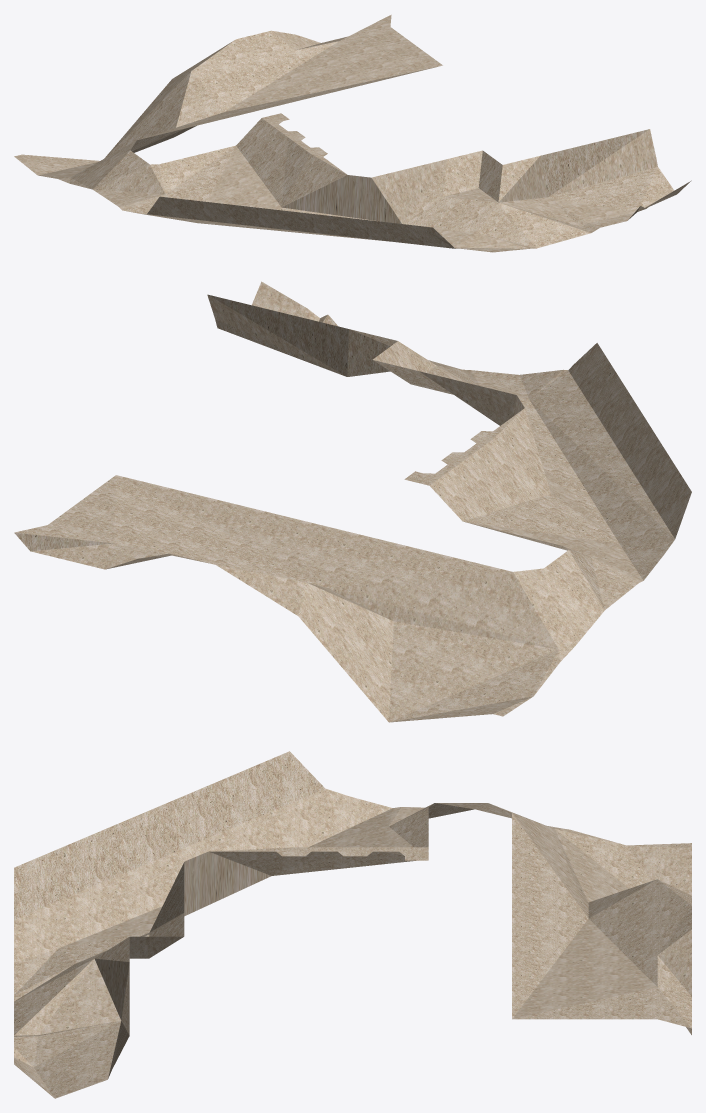
The model's file is lodseabed110.obj.
3 views of the same model, one above another, from view 1: azimuth 30°, elevation 25°; view 2: azimuth 150°, elevation 25°; view 3: azimuth 270°, elevation 25° (orthographic). The views are drawn at different scales.
Parts seen in each view (by area): view 1: lodseabed110; view 2: lodseabed110; view 3: lodseabed110.
Part boxes in pixels (box(x1,y1,x2,y2)): lodseabed110: box(14, 14, 691, 252); lodseabed110: box(14, 281, 691, 722); lodseabed110: box(14, 751, 691, 1098).
Size of the model in its own units: 400 by 86.05 by 394.
